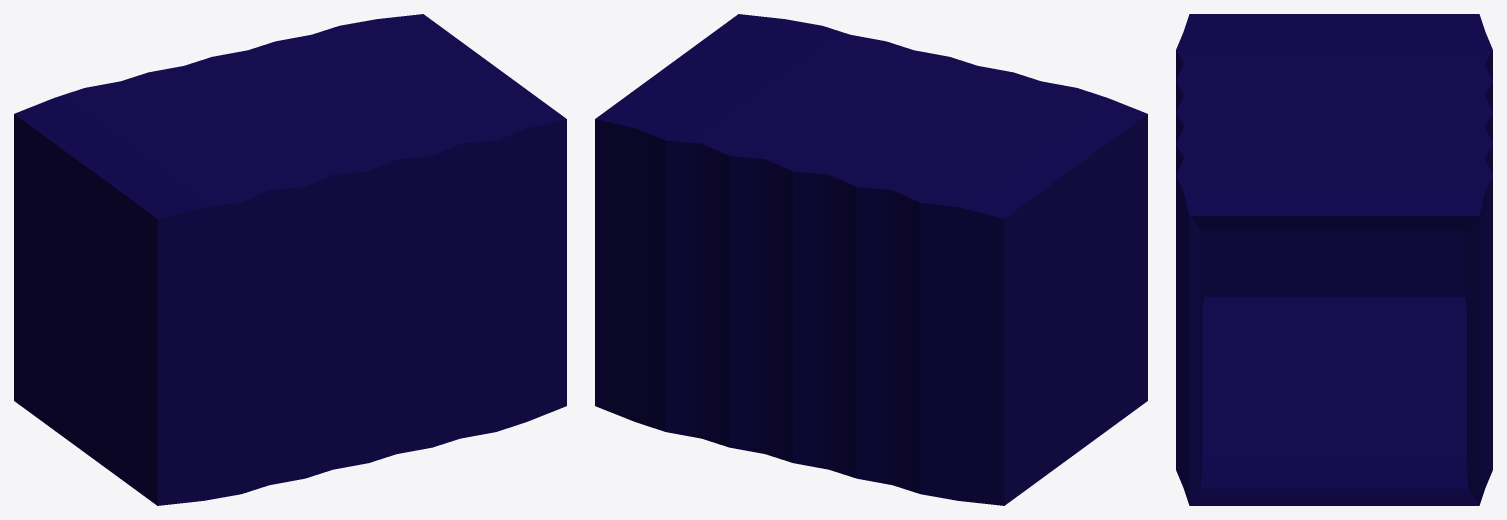
File: MetalContainer.fbx
3 renders of one model, left to right at view 1: azimuth 30°, elevation 25°; view 2: azimuth 150°, elevation 25°; view 3: azimuth 270°, elevation 25°, orthographic.
Visible parts, largest first — view 1: MetalContainer; view 2: MetalContainer; view 3: MetalContainer.
Part boxes in pixels (x1,y1,x2,y2): MetalContainer: (14, 14, 566, 505); MetalContainer: (595, 14, 1147, 505); MetalContainer: (1176, 14, 1492, 505).
Size of the model in its own units: 8.14 by 5.61 by 5.41.
